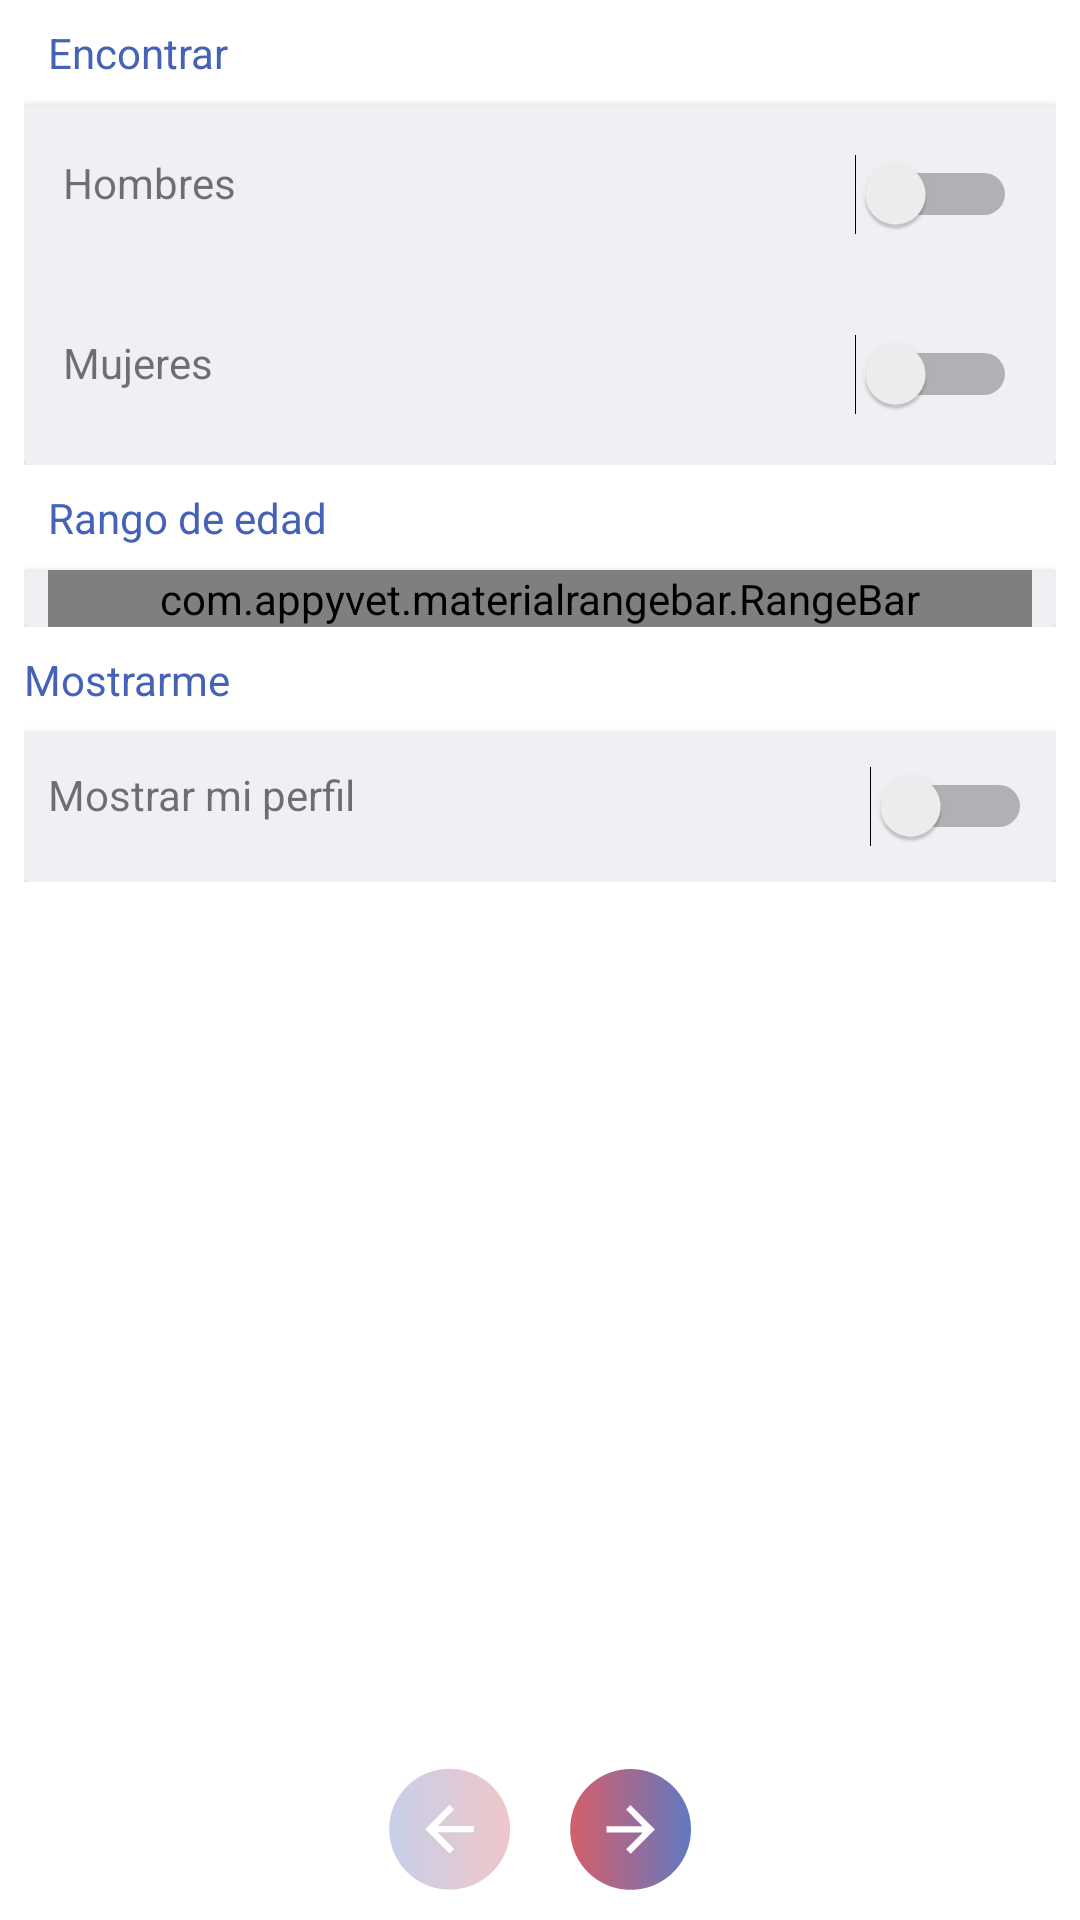

Where to tap for icons on this 1080×1920 app screen, as point (x, y):
back: point (449, 1829)
next: point (630, 1829)
